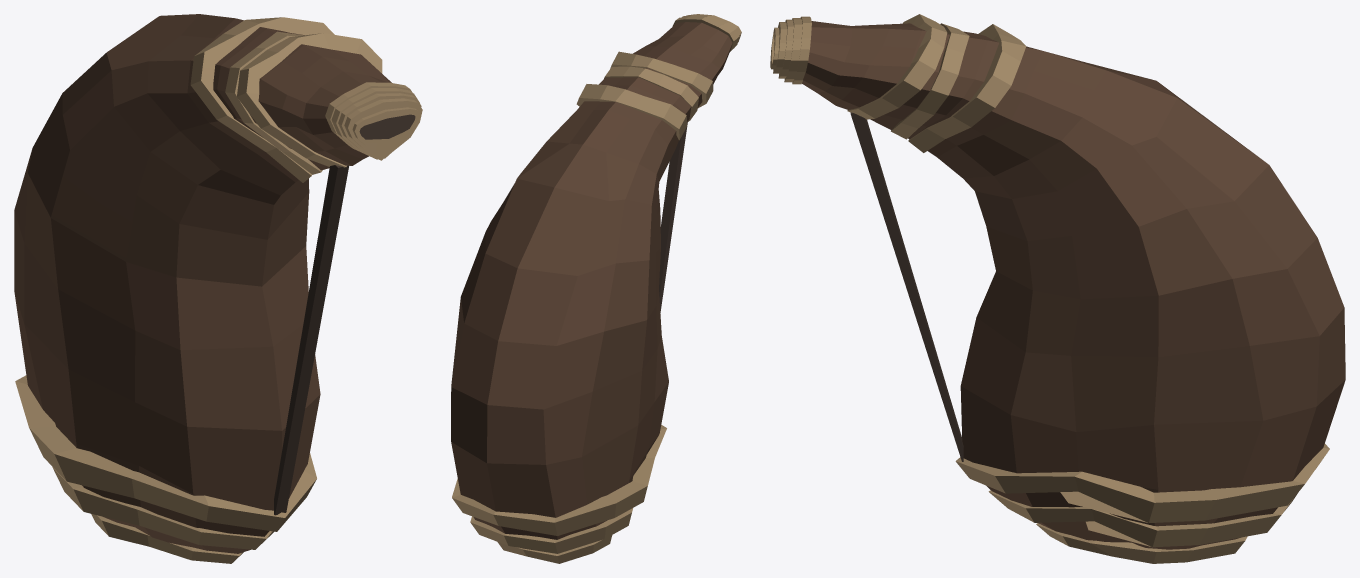
Rendered from Flask.fbx.
The picture shows the model from 3 angles, left to right: view 1: azimuth 30°, elevation 25°; view 2: azimuth 150°, elevation 25°; view 3: azimuth 270°, elevation 25°; orthographic projection. The views are drawn at different scales.
Parts seen in each view (by area): view 1: WaterFlask; view 2: WaterFlask; view 3: WaterFlask.
Part boxes in pixels (<box>): WaterFlask: <box>14,14,422,563</box>; WaterFlask: <box>451,14,741,563</box>; WaterFlask: <box>770,14,1345,563</box>.
Size of the model in its own units: 0.0979 by 0.2309 by 0.23.
